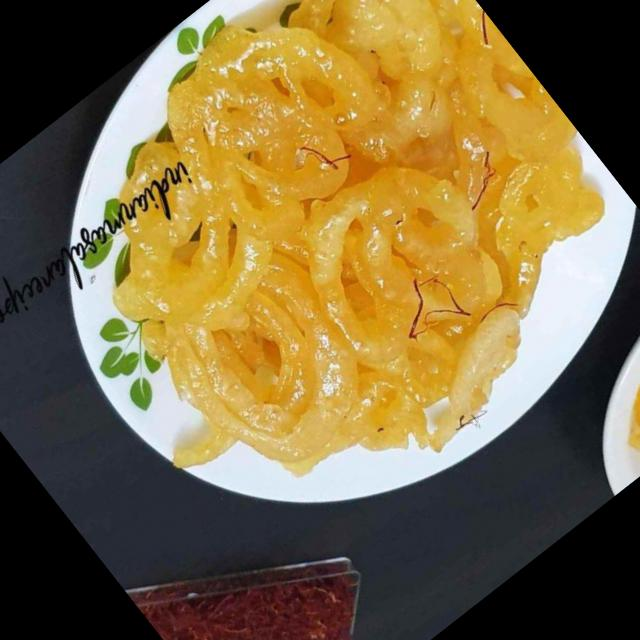jalebi: (31, 0, 640, 557), (597, 294, 640, 460)
